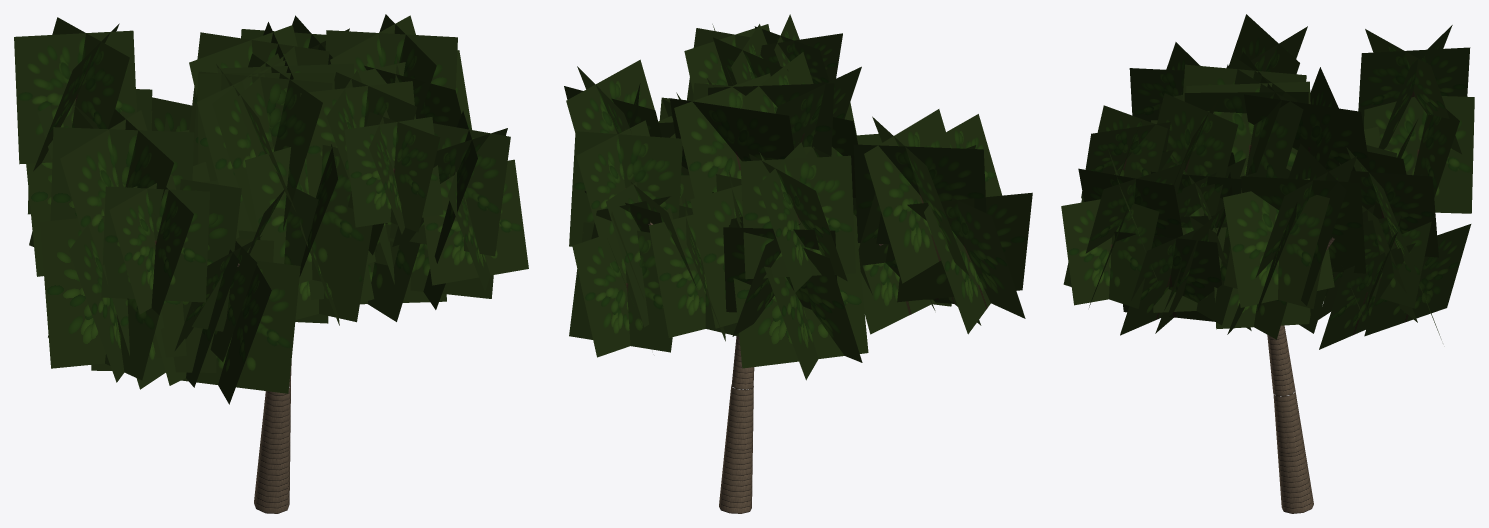
File: SM_Art_Veg_Broadleaf_1.gltf
The picture shows the model from 3 angles, left to right: view 1: azimuth 30°, elevation 25°; view 2: azimuth 150°, elevation 25°; view 3: azimuth 270°, elevation 25°; orthographic projection. The views are drawn at different scales.
Parts seen in each view (by area): view 1: SM_Art_Veg_Broadleaf_1; view 2: SM_Art_Veg_Broadleaf_1; view 3: SM_Art_Veg_Broadleaf_1.
Boxes of the visible parts, <box> form: SM_Art_Veg_Broadleaf_1: <box>14,14,528,513</box>; SM_Art_Veg_Broadleaf_1: <box>564,14,1032,513</box>; SM_Art_Veg_Broadleaf_1: <box>1061,14,1474,513</box>.
Size of the model in its own units: 8.73 by 8.32 by 7.59.
Materials: 2 (2 with a texture image).
